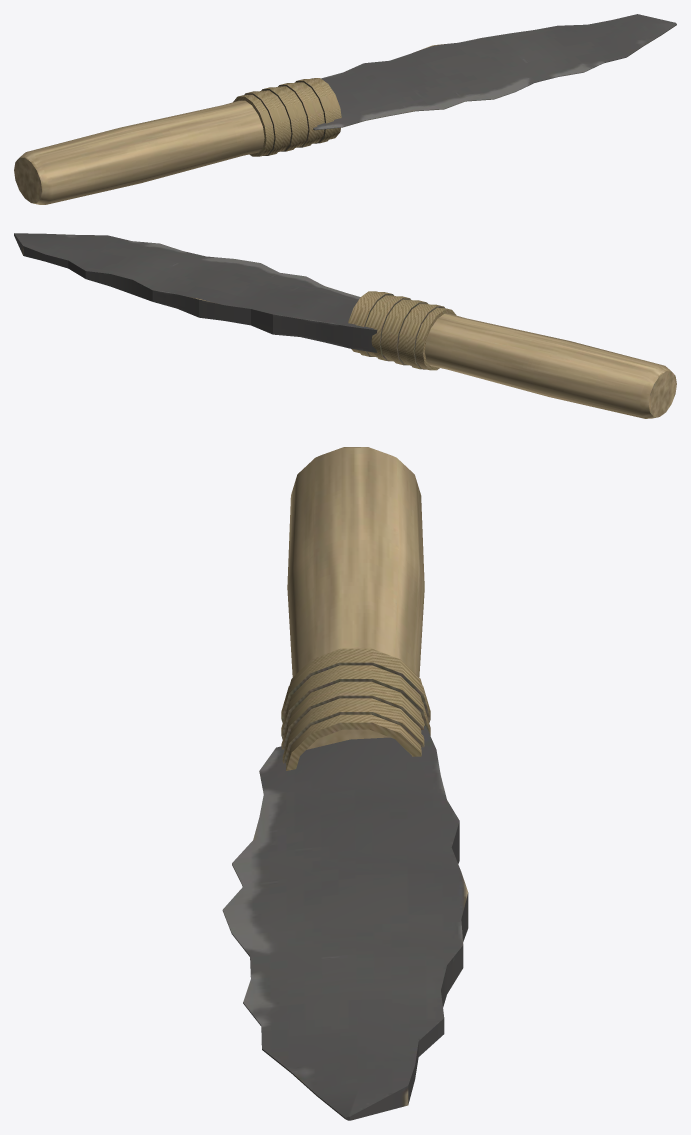
The model's file is faca_pedra.glb.
3 renders of one model, top to bottom at view 1: azimuth 30°, elevation 25°; view 2: azimuth 150°, elevation 25°; view 3: azimuth 270°, elevation 25°, orthographic. The views are drawn at different scales.
Visible parts, largest first — view 1: lamina, cabo, amarra; view 2: lamina, cabo, amarra; view 3: lamina, cabo, amarra.
Boxes of the visible parts, x1,y1,x2,y2 form: lamina: [313, 14, 676, 130]; cabo: [14, 100, 264, 204]; amarra: [233, 78, 341, 156]; lamina: [14, 233, 377, 352]; cabo: [425, 313, 676, 418]; amarra: [348, 291, 456, 370]; lamina: [222, 725, 468, 1120]; cabo: [287, 447, 424, 749]; amarra: [281, 648, 430, 770].
Bounding box in the file's own units: 0.252 × 0.0211 × 0.0415.
1 material, 1 textured.
